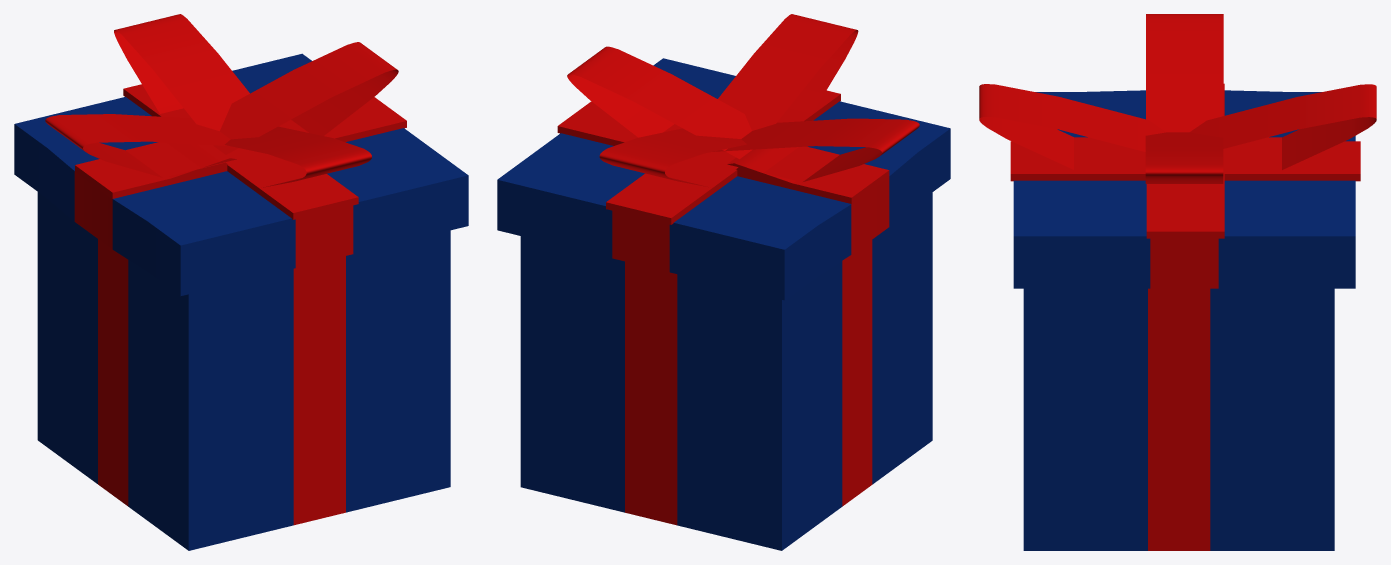
3 views of the same model, side by side, from view 1: azimuth 30°, elevation 25°; view 2: azimuth 150°, elevation 25°; view 3: azimuth 270°, elevation 25° (orthographic). The views are drawn at different scales.
Visible parts, largest first — view 1: box, kr; view 2: box, kr; view 3: box, kr.
Part boxes in pixels (x1=…): box: x1=37, y1=192, x2=450, y2=550; kr: x1=14, y1=14, x2=468, y2=295; box: x1=520, y1=192, x2=932, y2=550; kr: x1=497, y1=14, x2=950, y2=300; box: x1=1023, y1=288, x2=1334, y2=550; kr: x1=979, y1=14, x2=1376, y2=288.
Size of the model in its own units: 12.43 by 13.66 by 12.82.
